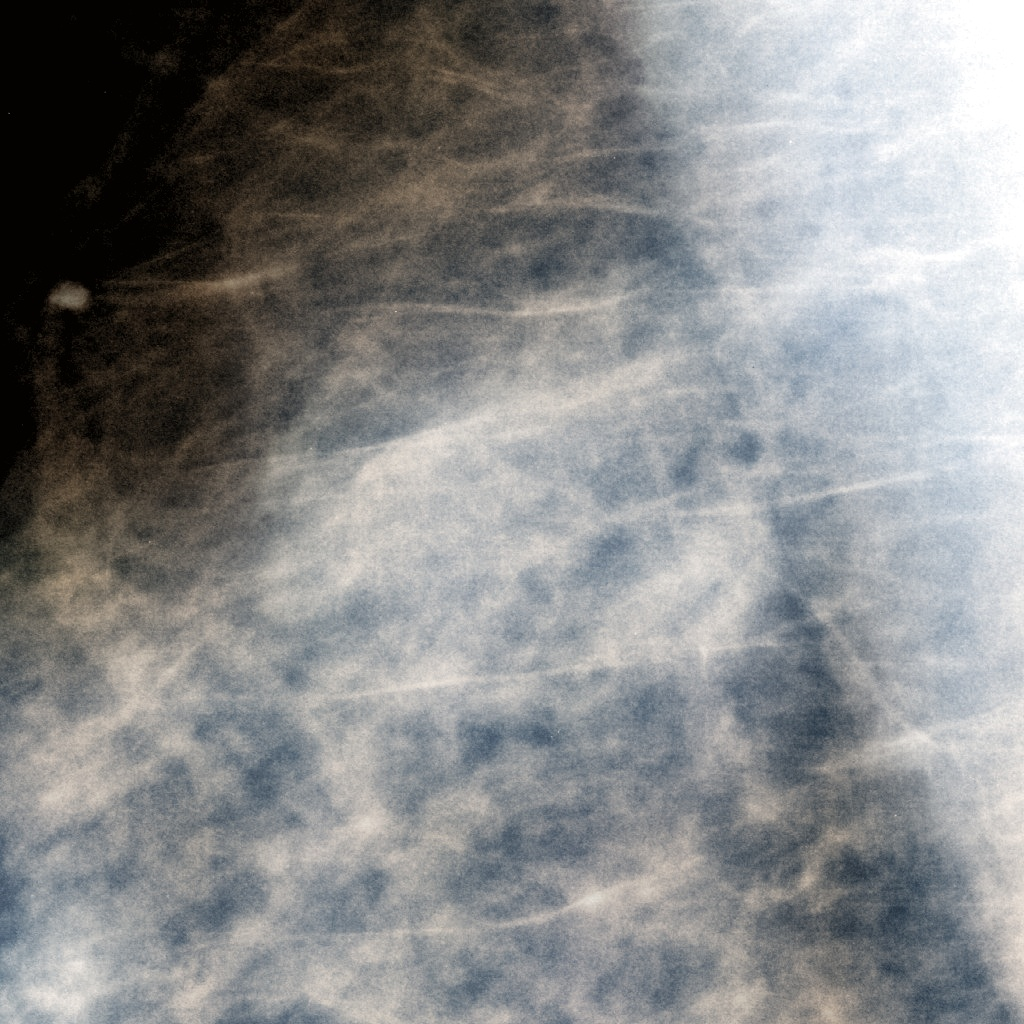tumor: (241, 272, 783, 752)
